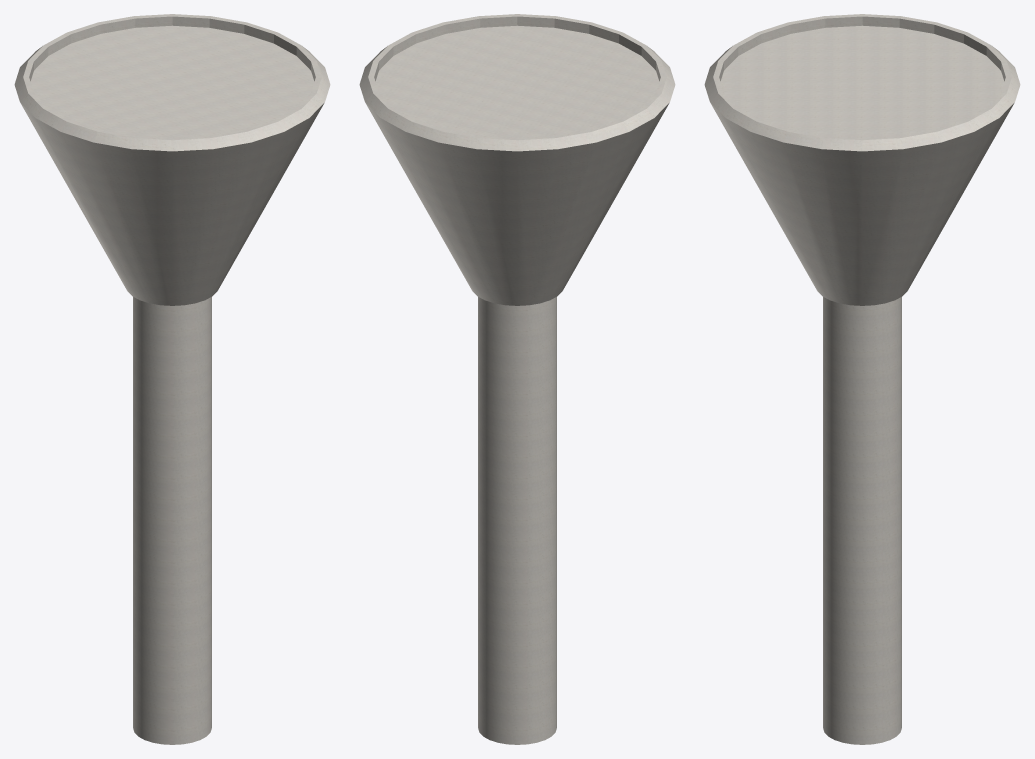
The model's file is Techni_WaterTower.gltf.
The picture shows the model from 3 angles, left to right: view 1: azimuth 30°, elevation 25°; view 2: azimuth 150°, elevation 25°; view 3: azimuth 270°, elevation 25°; orthographic projection.
Visible parts, largest first — view 1: node1; view 2: node1; view 3: node1.
Part boxes in pixels (x1,y1,x2,y2): node1: [14, 14, 330, 744]; node1: [359, 14, 675, 744]; node1: [704, 14, 1020, 744].
Bounding box in the file's own units: 13.64 × 31.02 × 13.64.
